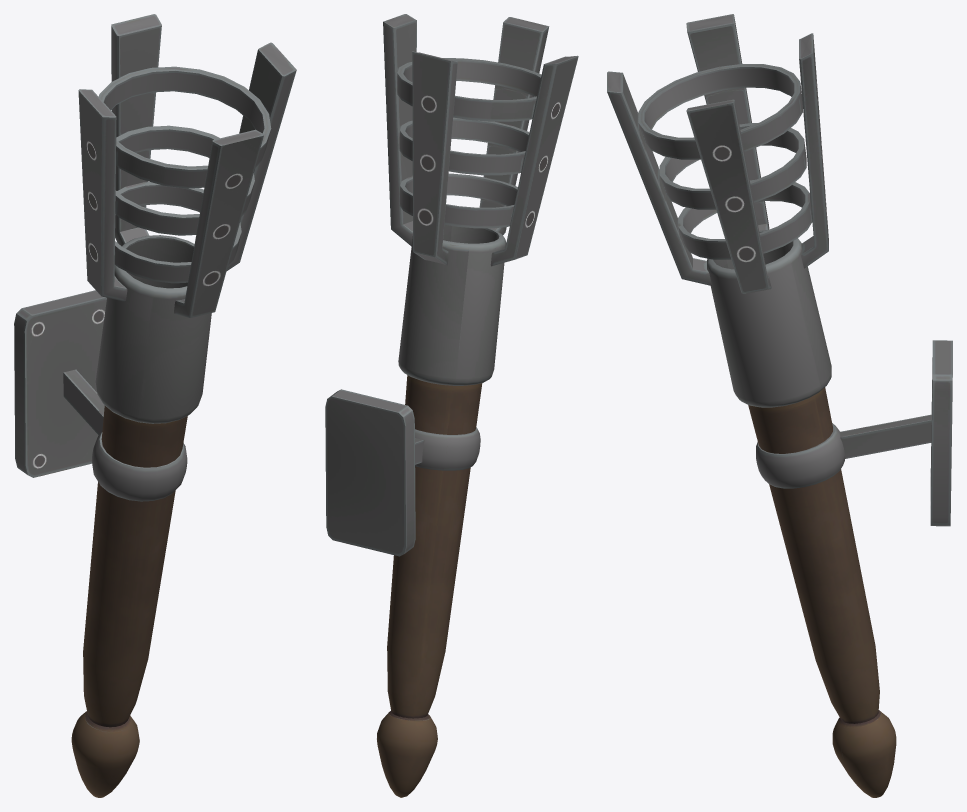
File: SM_torch_03.glb
3 renders of one model, left to right at view 1: azimuth 30°, elevation 25°; view 2: azimuth 150°, elevation 25°; view 3: azimuth 270°, elevation 25°, orthographic. The views are drawn at different scales.
Parts seen in each view (by area): view 1: SM_torch_03; view 2: SM_torch_03; view 3: SM_torch_03.
Boxes of the visible parts, bbox=[...] form: SM_torch_03: bbox=[14, 14, 296, 797]; SM_torch_03: bbox=[325, 14, 578, 797]; SM_torch_03: bbox=[607, 14, 952, 797].
Bounding box in the file's own units: 0.1845 × 0.7292 × 0.3029.
Materials: 1 (1 with a texture image).
